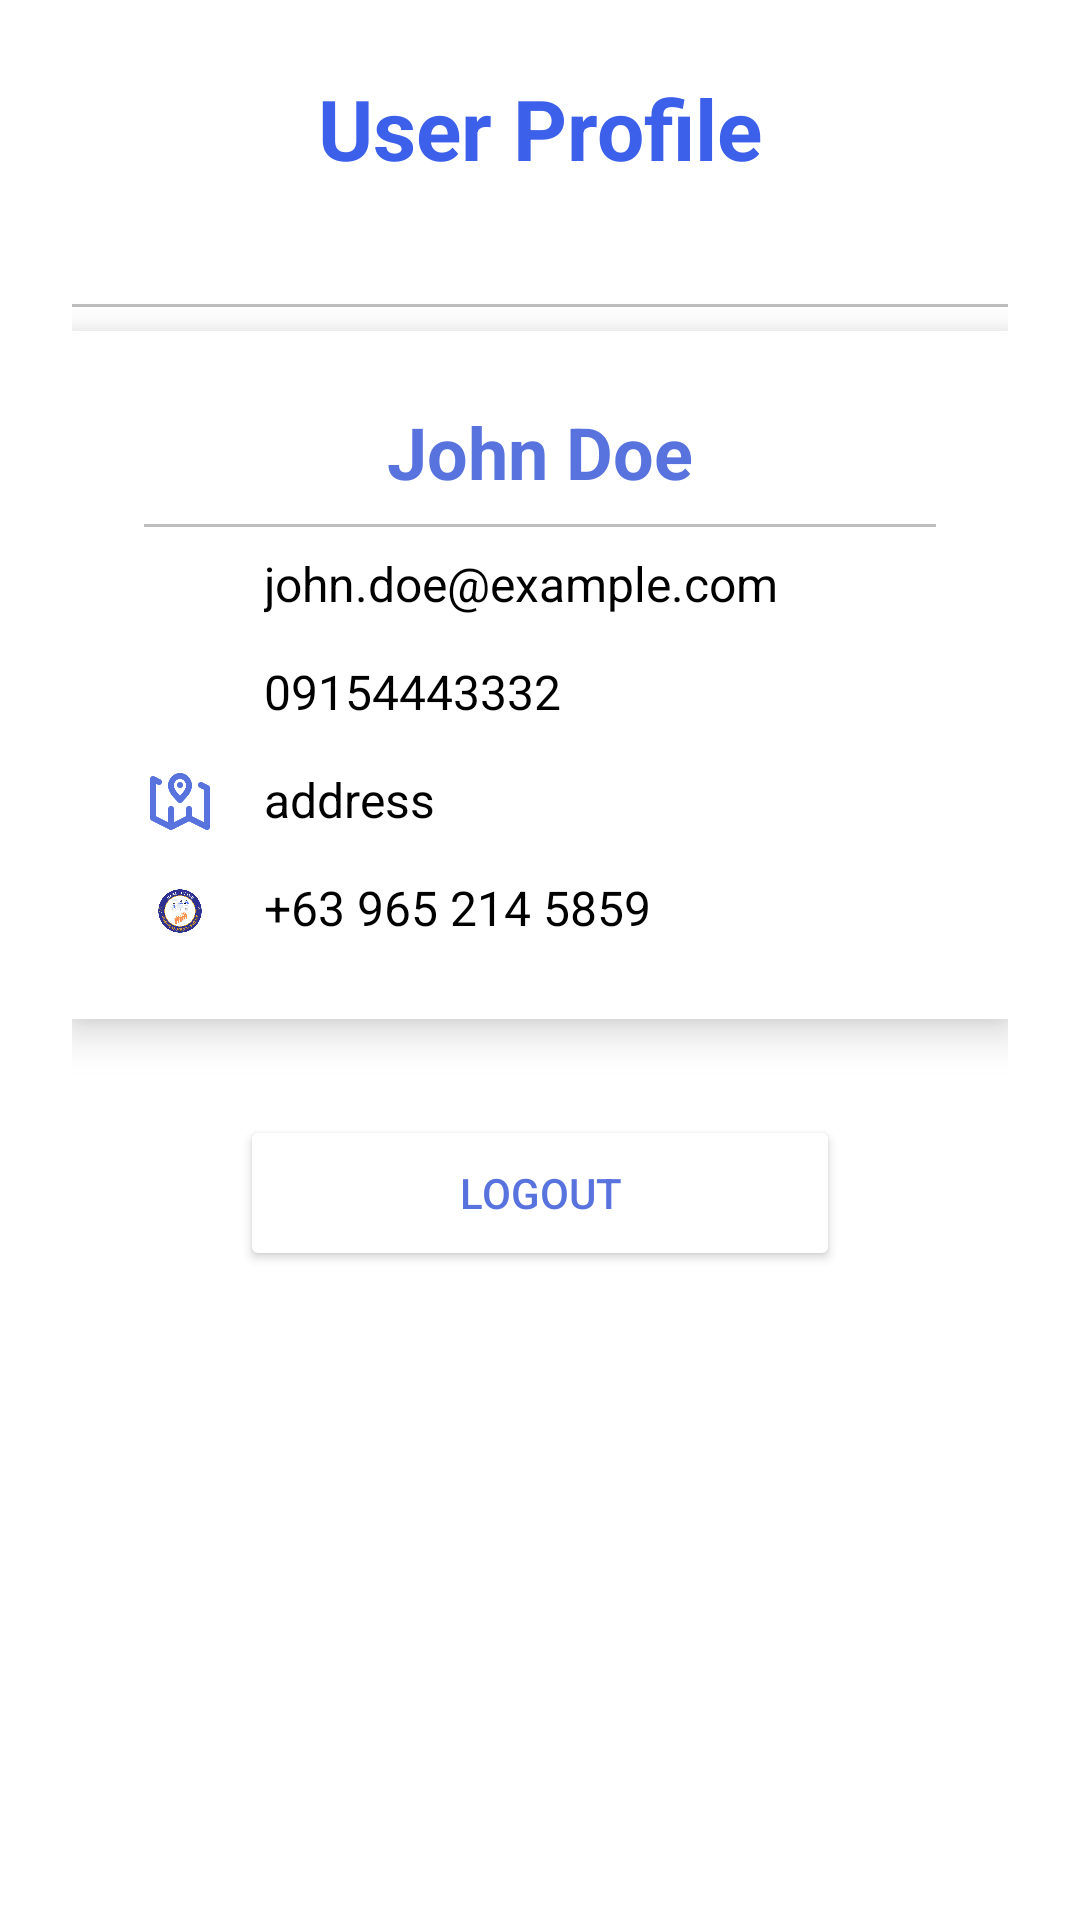

Icons on this 1080×1920 Android screen, each with its box as bbox=(x1, y1, x2, y2):
map: bbox=(150, 773, 210, 830)
